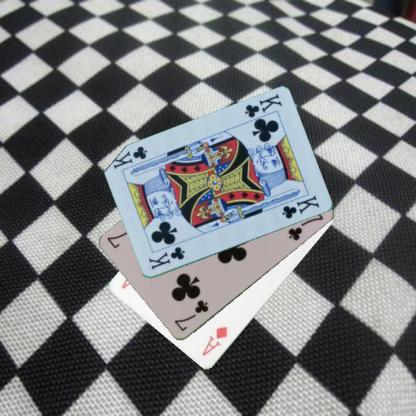7c: (172, 298, 210, 332)
Ad: (199, 324, 229, 358)
Kc: (242, 91, 283, 120), (146, 244, 186, 271)
